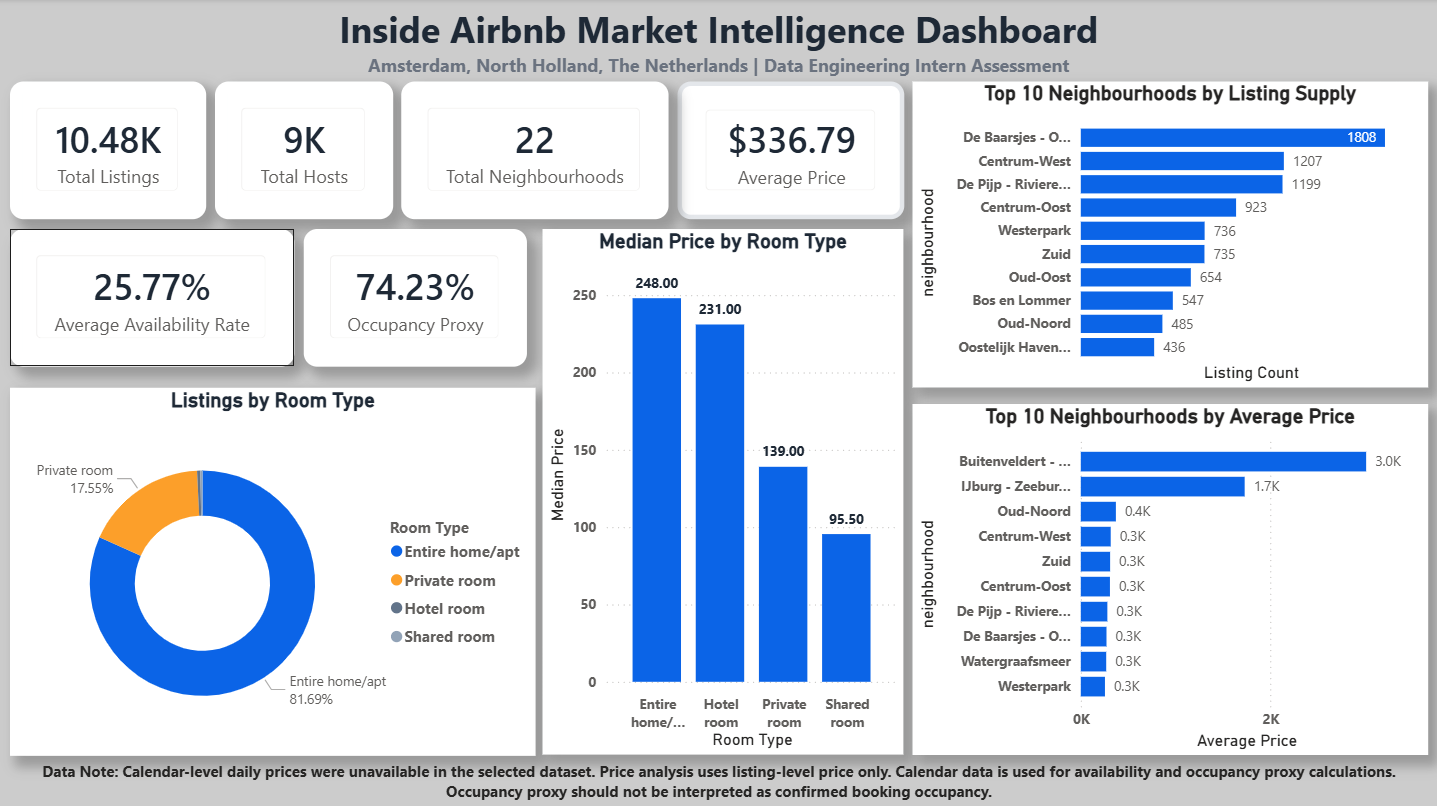

What the dashboard file says about the page in this screenshot:
{"tool":"powerbi","page":{"name":"Executive Overview","canvas":[1280,720],"ordinal":0},"visuals":[{"type":"textbox","box":[286,0,706.5,79.3],"z":0},{"type":"cardVisual","title":"Listings","fields":{"Data":["data_quality_checks_powerbi.Total Listings"]},"box":[9,73.2,174.7,122.5],"z":1000},{"type":"cardVisual","fields":{"Data":["data_quality_checks_powerbi.Total Hosts"]},"box":[191.2,73.2,158.3,122.5],"z":2000},{"type":"cardVisual","fields":{"Data":["data_quality_checks_powerbi.Average Price"]},"box":[601.9,73.2,201.6,122.5],"z":3000},{"type":"cardVisual","fields":{"Data":["data_quality_checks_powerbi.Total Neighbourhoods"]},"box":[357,73.2,237.5,122.5],"z":4000},{"type":"cardVisual","fields":{"Data":["data_quality_checks_powerbi.Average Availability Rate"]},"box":[9,204.6,252.4,122.5],"z":5000},{"type":"cardVisual","fields":{"Data":["data_quality_checks_powerbi.Occupancy Proxy"]},"box":[270.3,204.6,198.6,122.5],"z":6000},{"type":"donutChart","title":"Listings by Room Type","fields":{"Category":["listing_master_powerbi.room_type"],"Y":["CountNonNull(listing_master_powerbi.listing_id)"]},"box":[9,345,467.5,327.1],"z":7000},{"type":"clusteredColumnChart","title":"Median Price by Room Type","fields":{"Category":["listing_master_powerbi.room_type"],"Y":["data_quality_checks_powerbi.Median Price"]},"box":[482.4,204.6,321.1,467.5],"z":8000},{"type":"clusteredBarChart","title":"Top 10 Neighbourhoods by Listing Supply","fields":{"Category":["listing_master_powerbi.neighbourhood"],"Y":["data_quality_checks_powerbi.Listing Count"]},"box":[811,73.2,458.5,271.8],"z":9000},{"type":"clusteredBarChart","title":"Top 10 Neighbourhoods by Average Price","fields":{"Category":["listing_master_powerbi.neighbourhood"],"Y":["data_quality_checks_powerbi.Average Price"]},"box":[811,360,458.5,312.2],"z":10000},{"type":"textbox","box":[9,672.1,1260.6,47.8],"z":11000}]}

Visuals, with their boxes in screenshot pixels (x1, y1, x2, y2), scaled from the page's 1280x720 canvas onto the 1437x806 screenshot:
textbox: l=321, t=0, r=1114, b=89
"Listings" cardVisual: l=10, t=82, r=206, b=219
cardVisual - data_quality_checks_powerbi.Total Hosts: l=215, t=82, r=392, b=219
cardVisual - data_quality_checks_powerbi.Average Price: l=676, t=82, r=902, b=219
cardVisual - data_quality_checks_powerbi.Total Neighbourhoods: l=401, t=82, r=667, b=219
cardVisual - data_quality_checks_powerbi.Average Availability Rate: l=10, t=229, r=293, b=366
cardVisual - data_quality_checks_powerbi.Occupancy Proxy: l=303, t=229, r=526, b=366
"Listings by Room Type" donutChart: l=10, t=386, r=535, b=752
"Median Price by Room Type" clusteredColumnChart: l=542, t=229, r=902, b=752
"Top 10 Neighbourhoods by Listing Supply" clusteredBarChart: l=910, t=82, r=1425, b=386
"Top 10 Neighbourhoods by Average Price" clusteredBarChart: l=910, t=403, r=1425, b=752
textbox: l=10, t=752, r=1425, b=805
